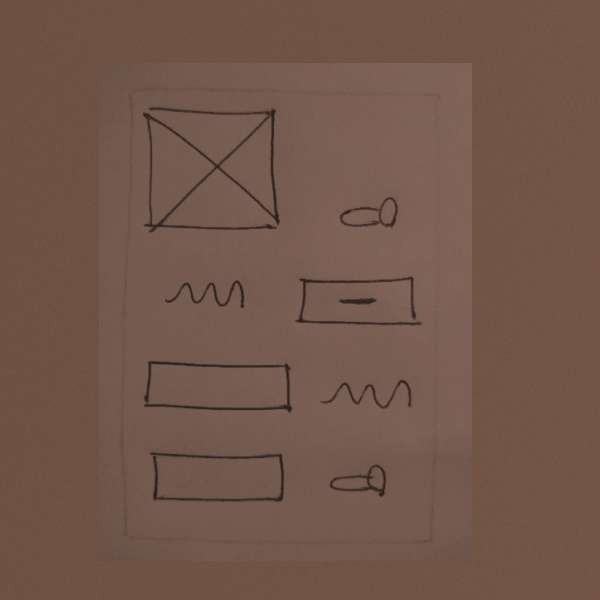button: (288, 272, 428, 335)
image: (138, 102, 282, 239)
switch: (329, 193, 416, 240), (323, 457, 397, 509)
text: (319, 371, 416, 419), (156, 272, 251, 316)
text_input: (138, 356, 296, 424), (142, 446, 292, 511)
